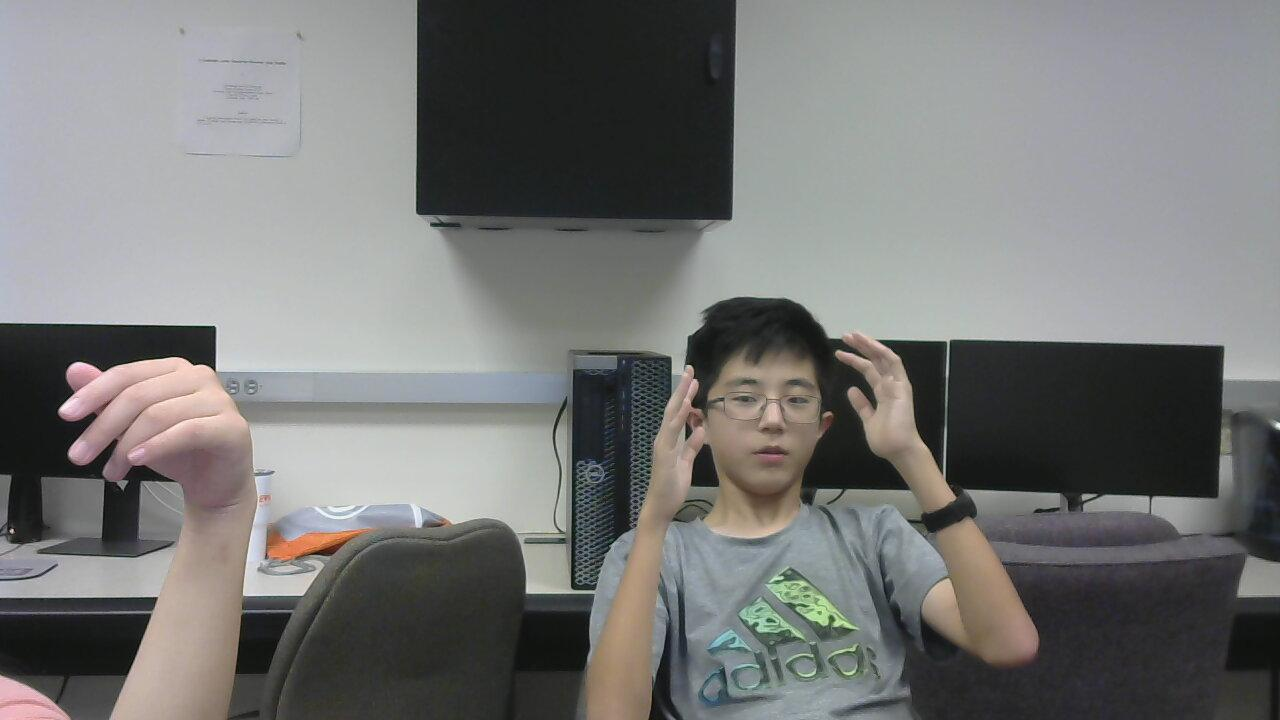hands: (51, 334, 280, 517), (825, 328, 947, 461), (625, 360, 721, 525)
